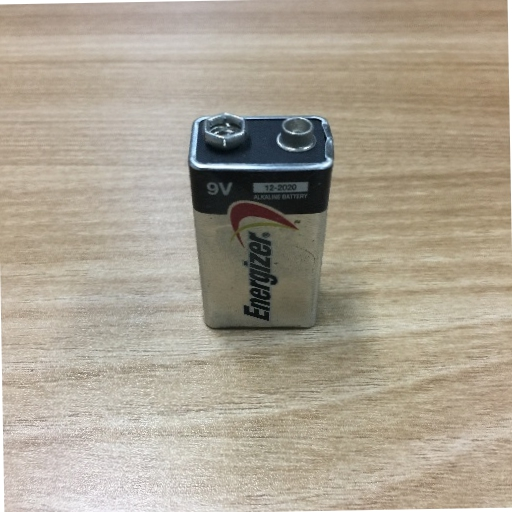Battery_3: (185, 111, 342, 338)
